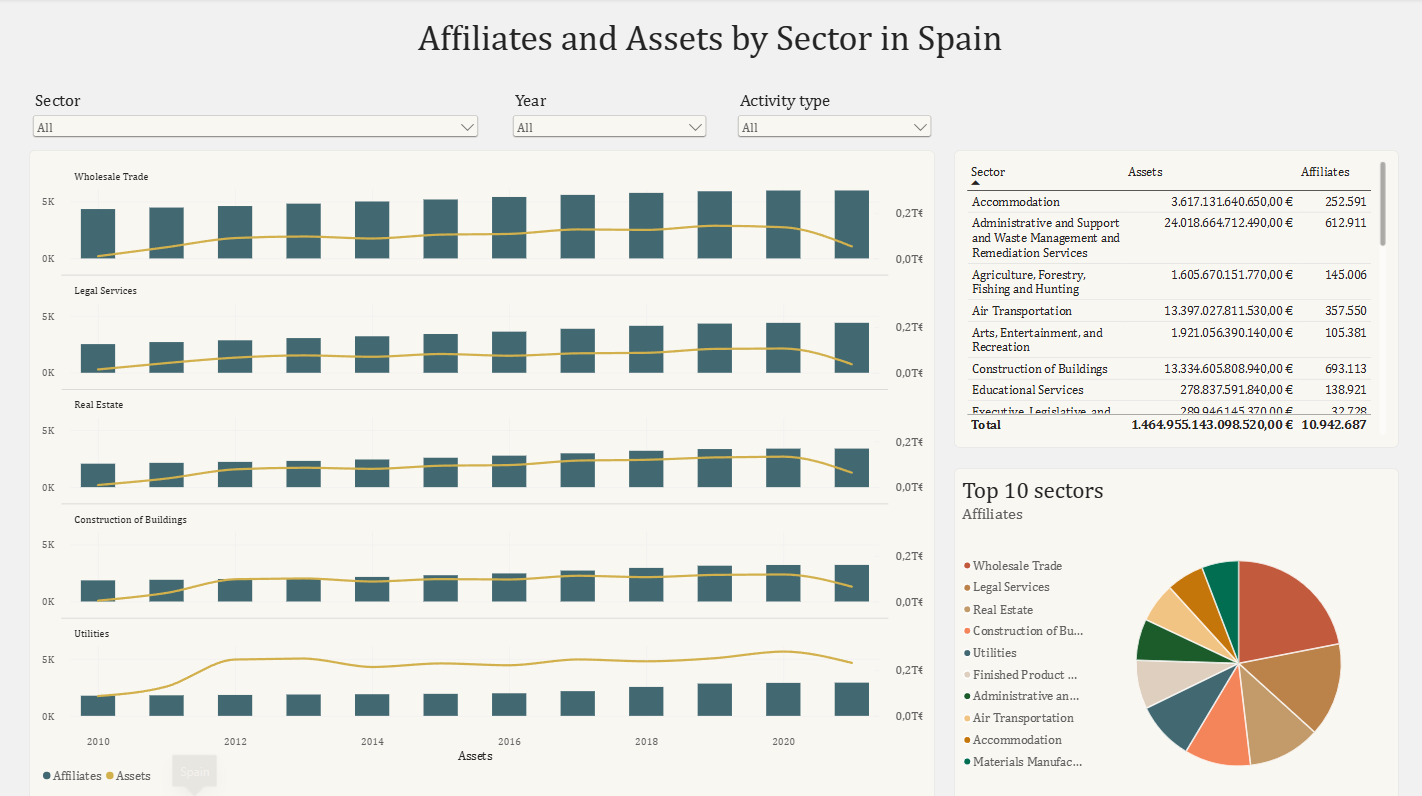

The dashboard page shown, as its layout file describes it:
{"tool":"powerbi","page":{"name":"Spain","canvas":[1920,1080],"ordinal":1},"visuals":[{"type":"lineClusteredColumnComboChart","title":"Affiliates and assets by sector","fields":{"Category":["mreid_db mreid_facts.year"],"Rows":["mreid_db dim_sectors.naics2description"],"Y":["Sum(mreid_db mreid_facts.extensive)"],"Y2":["Sum(mreid_db mreid_facts.TotalassetsthUSD_eur)"]},"box":[42.9,204.3,1220,875.7],"z":0},{"type":"textbox","box":[0,24.2,1920.3,67.3],"z":1000},{"type":"slicer","fields":{"Values":["mreid_db mreid_facts.year"]},"box":[689.5,123.9,270.7,79.5],"z":2000},{"type":"slicer","fields":{"Values":["mreid_db mreid_facts.activity_type"]},"box":[992.5,123.9,270.7,80.8],"z":3000},{"type":"tableEx","fields":{"Values":["mreid_db dim_sectors.naics2description","Sum(mreid_db mreid_facts.TotalassetsthUSD_eur)","Sum(mreid_db mreid_facts.extensive)"]},"box":[1288.6,204.3,598.6,401.4],"z":4000},{"type":"slicer","fields":{"Values":["mreid_db dim_sectors.naics2description"]},"box":[43.1,123.9,610,79.5],"z":5000},{"type":"pieChart","title":"Top 10 sectors","fields":{"Category":["mreid_db dim_sectors.naics2description"],"Y":["Sum(mreid_db mreid_facts.extensive)"]},"box":[1288.6,632.9,598.6,447.1],"z":6000}]}

Visuals, with their boxes in screenshot pixels (x1, y1, x2, y2), scaled from the page's 1920x1080 canvas onto the 1422x796 screenshot:
"Affiliates and assets by sector" lineClusteredColumnComboChart: x1=32, y1=151, x2=935, y2=795
textbox: x1=0, y1=18, x2=1421, y2=67
slicer - mreid_db mreid_facts.year: x1=511, y1=91, x2=711, y2=150
slicer - mreid_db mreid_facts.activity_type: x1=735, y1=91, x2=936, y2=151
tableEx - mreid_db dim_sectors.naics2description x Sum(mreid_db mreid_facts.TotalassetsthUSD_eur): x1=954, y1=151, x2=1398, y2=446
slicer - mreid_db dim_sectors.naics2description: x1=32, y1=91, x2=484, y2=150
"Top 10 sectors" pieChart: x1=954, y1=466, x2=1398, y2=795
